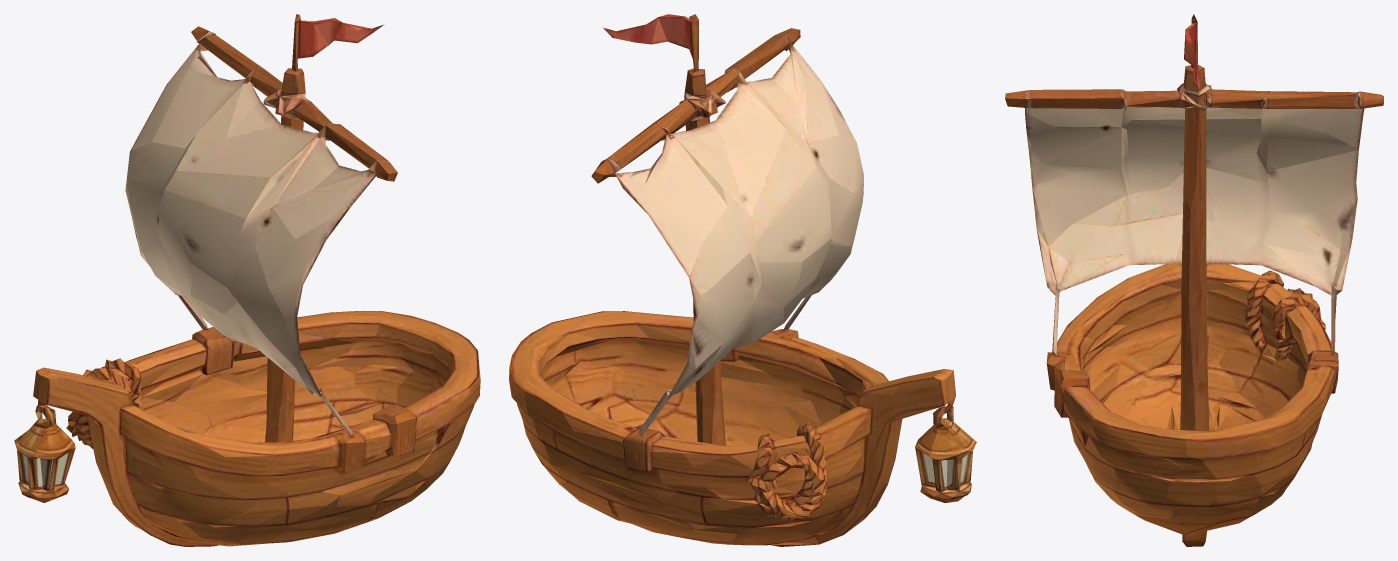
Rendered from sky-boat.glb.
The picture shows the model from 3 angles, left to right: view 1: azimuth 30°, elevation 25°; view 2: azimuth 150°, elevation 25°; view 3: azimuth 270°, elevation 25°; orthographic projection. The views are drawn at different scales.
Bounding box in the file's own units: 1.73 × 1.9 × 1.33.
1 material, 1 textured.
